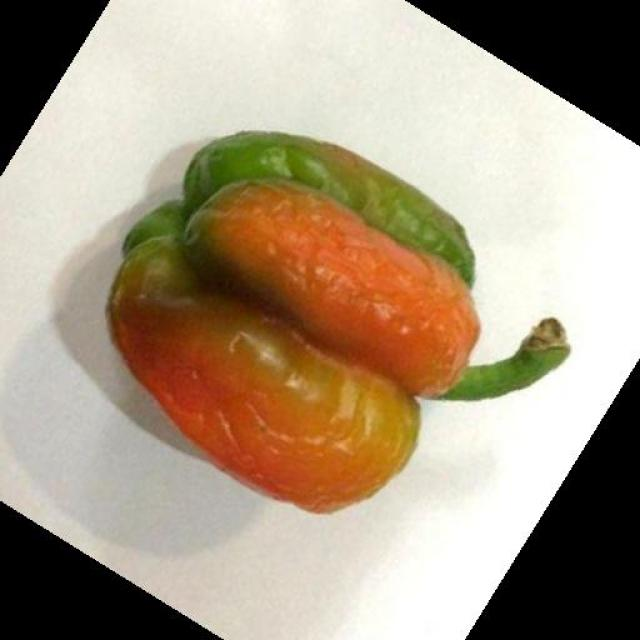Stale_Capsicum: (109, 92, 627, 517)
